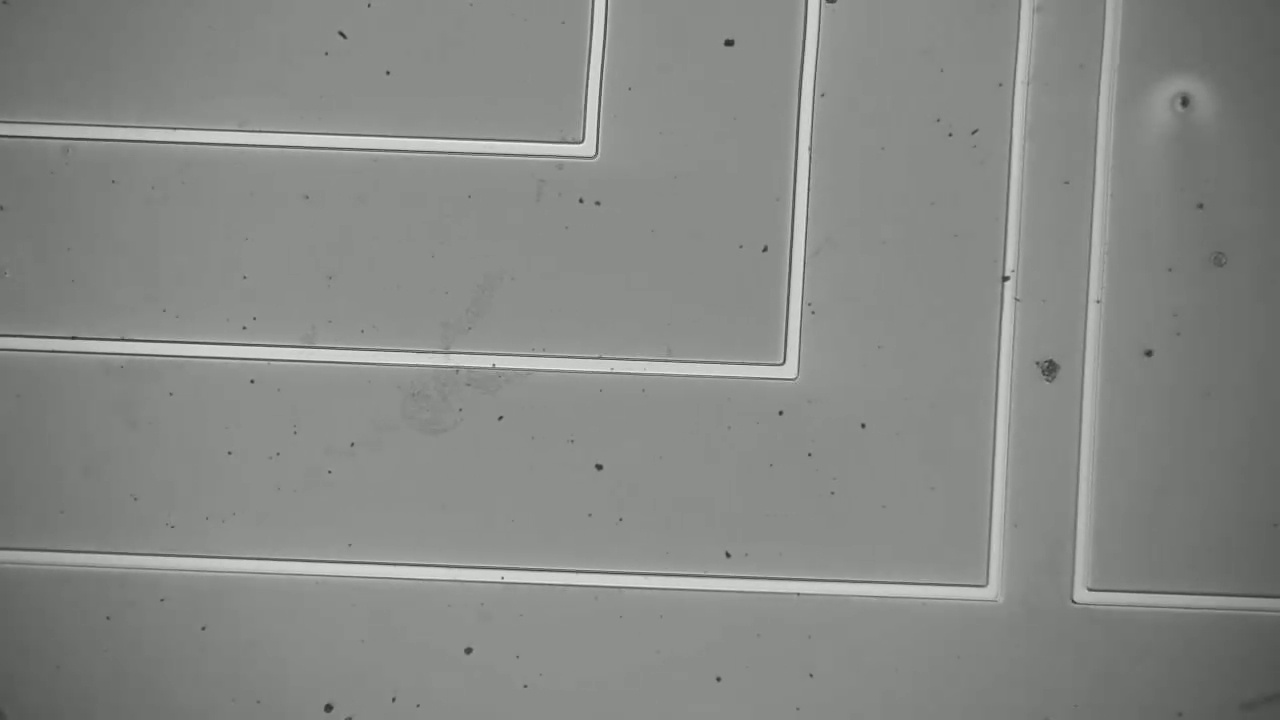stains_enbedded: (997, 269, 1021, 289)
